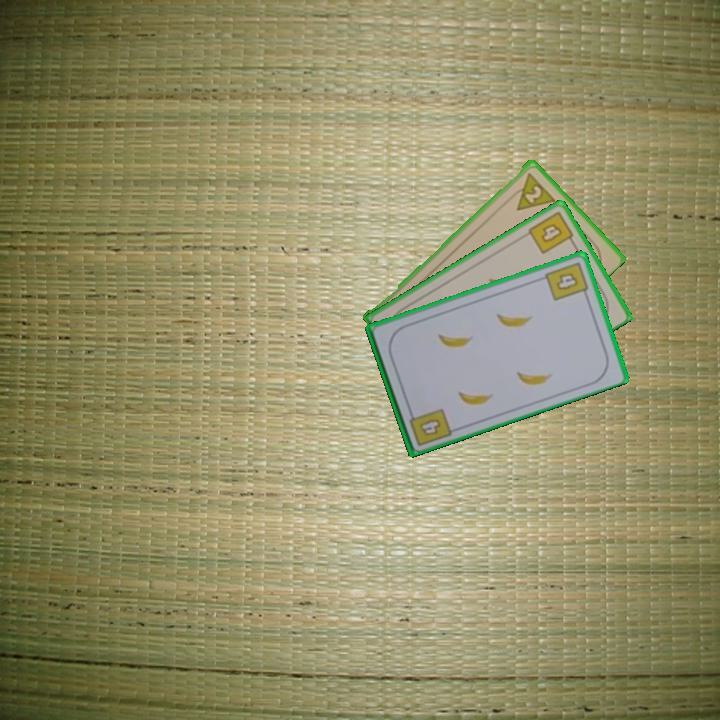2p: (505, 169, 557, 213)
4b: (524, 207, 578, 257), (541, 258, 591, 303), (405, 405, 454, 449)
